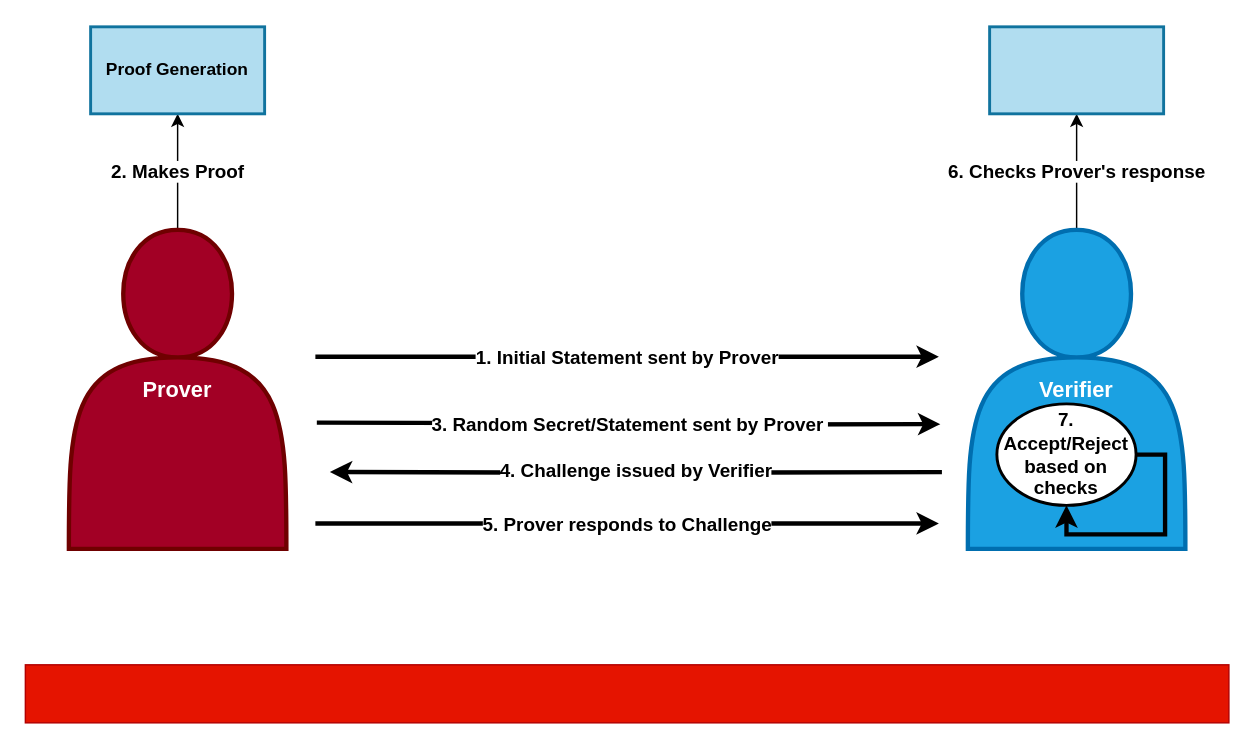
Image size: 1254x748. Some labels were removed from this diagram. Here are the shapes that lost their labels. From the top down, the centre of each, then its label:
(1075,70): Checks Proof
(626,693): Zero-Knowledge Proof Protocol Flow
